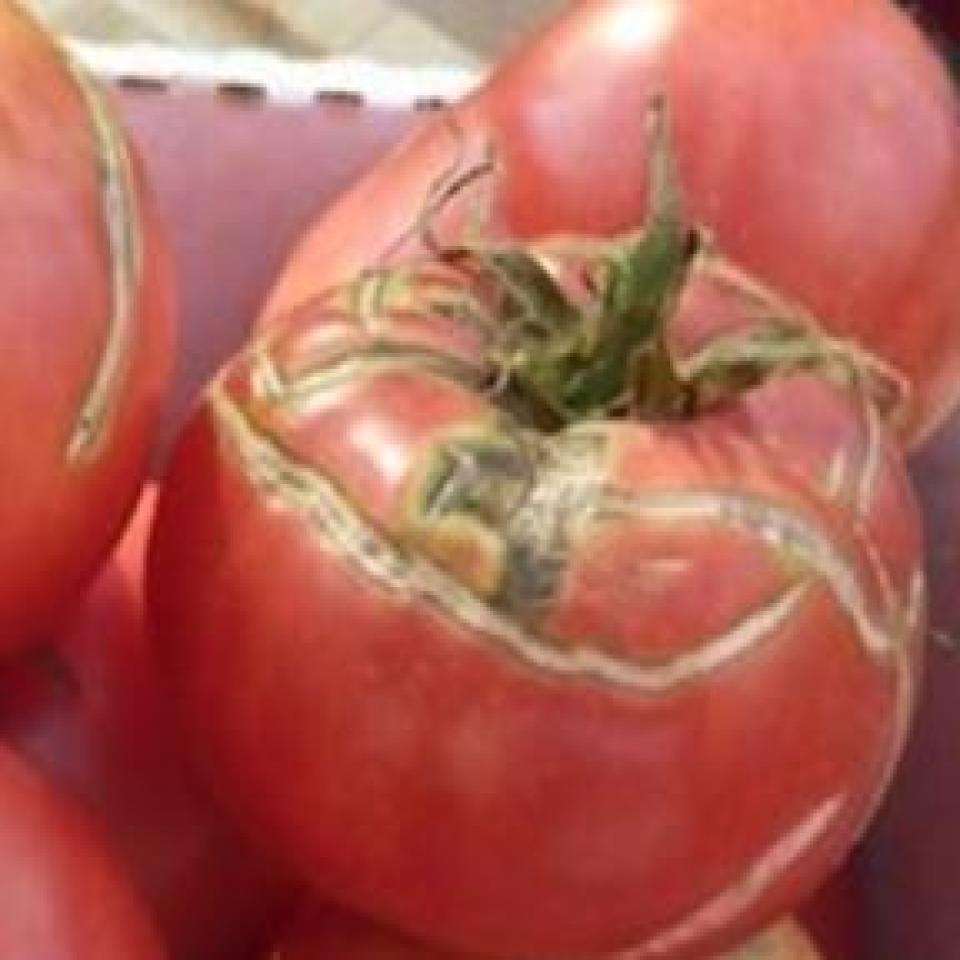Cracking: (171, 326, 840, 721), (451, 415, 914, 697), (451, 778, 874, 941), (62, 59, 154, 560)
